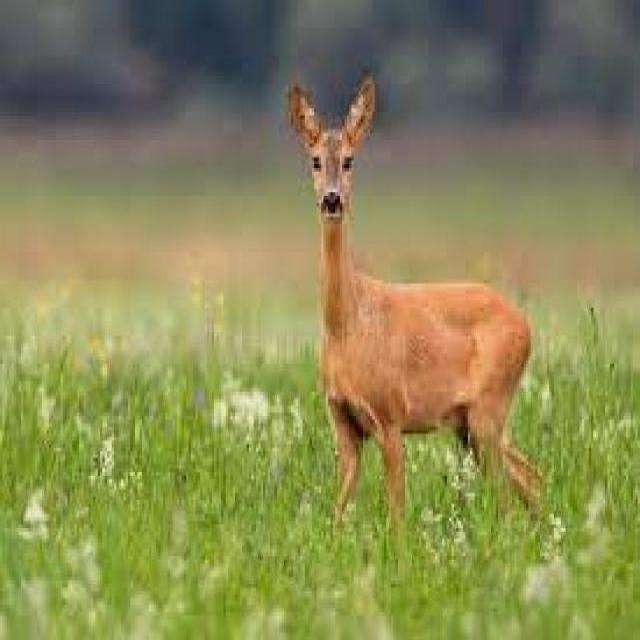deer: (274, 61, 544, 528)
